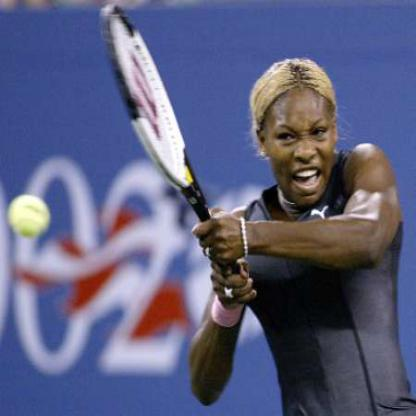face: (266, 62, 338, 207)
